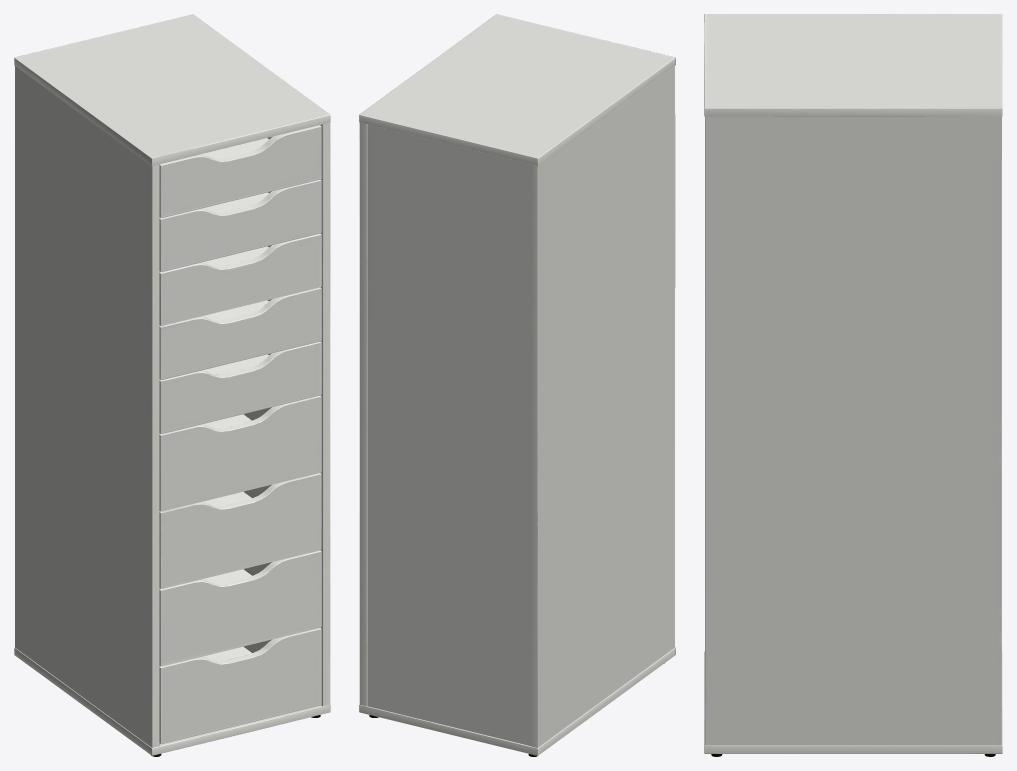
The picture shows the model from 3 angles, left to right: view 1: azimuth 30°, elevation 25°; view 2: azimuth 150°, elevation 25°; view 3: azimuth 270°, elevation 25°; orthographic projection. The views are drawn at different scales.
Parts seen in each view (by area): view 1: 90486139-ALEX001; view 2: 90486139-ALEX001; view 3: 90486139-ALEX001.
Part boxes in pixels (left/top/right/bottom): 90486139-ALEX001: left=14, top=14, right=330, bottom=756; 90486139-ALEX001: left=359, top=14, right=675, bottom=756; 90486139-ALEX001: left=704, top=14, right=1002, bottom=756.
Bounding box in the file's own units: 0.3608 × 1.16 × 0.4822.
1 material, 1 textured.
